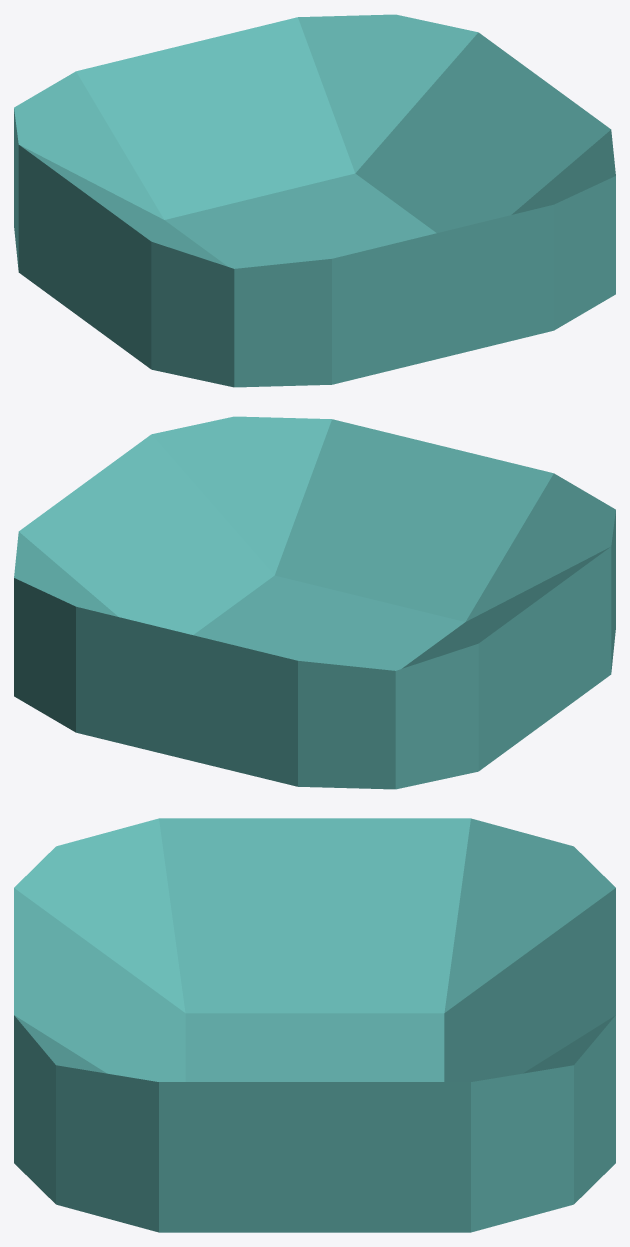
File: collection_basic_blue_bowl.glb
The picture shows the model from 3 angles, top to bottom: view 1: azimuth 30°, elevation 25°; view 2: azimuth 150°, elevation 25°; view 3: azimuth 270°, elevation 25°; orthographic projection. The views are drawn at different scales.
Parts seen in each view (by area): view 1: Cube; view 2: Cube; view 3: Cube.
Part boxes in pixels (x1=…): Cube: x1=14, y1=14, x2=615, y2=387; Cube: x1=14, y1=416, x2=615, y2=789; Cube: x1=14, y1=818, x2=615, y2=1232.
Bounding box in the file's own units: 0.5301 × 0.141 × 0.5115.
